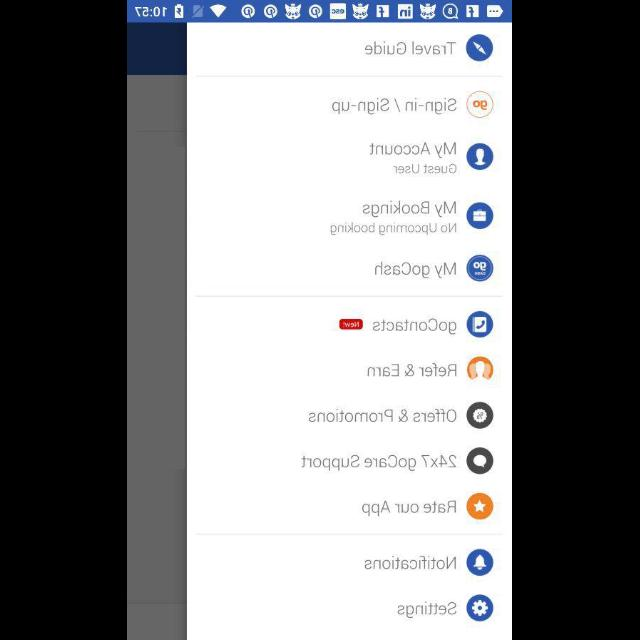icon: (466, 594, 494, 622), (466, 35, 494, 63), (466, 144, 494, 170), (468, 356, 494, 384), (468, 448, 494, 474), (468, 494, 494, 520), (468, 550, 494, 576)
image: (466, 202, 494, 230), (466, 91, 494, 119), (466, 255, 494, 282), (466, 312, 494, 338), (468, 402, 494, 430)
panel: (188, 24, 512, 640)
text: (301, 454, 457, 472), (332, 97, 458, 115), (308, 409, 458, 423), (363, 200, 457, 218), (330, 222, 458, 235), (362, 499, 456, 516), (375, 261, 457, 279), (364, 555, 456, 571), (369, 142, 456, 158), (373, 318, 457, 334), (365, 42, 457, 56), (368, 363, 457, 377), (398, 602, 458, 618), (393, 163, 457, 174)
uppertaskbar: (128, 1, 512, 23)
